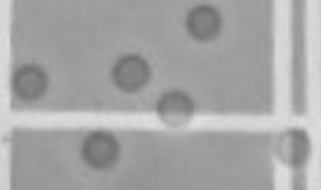cell: (74, 123, 124, 173), (151, 86, 198, 135), (8, 59, 53, 108), (271, 123, 315, 173), (109, 50, 154, 98), (182, 1, 225, 45)
